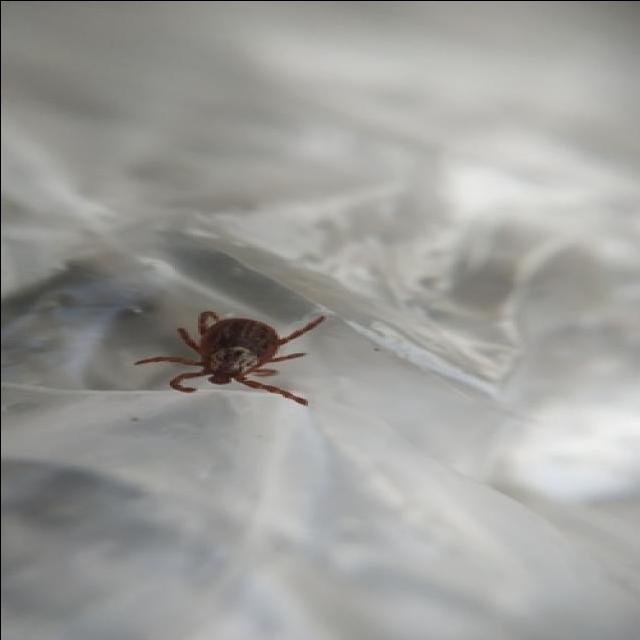Dermacentor Reticulatus-F: (133, 310, 325, 404)
